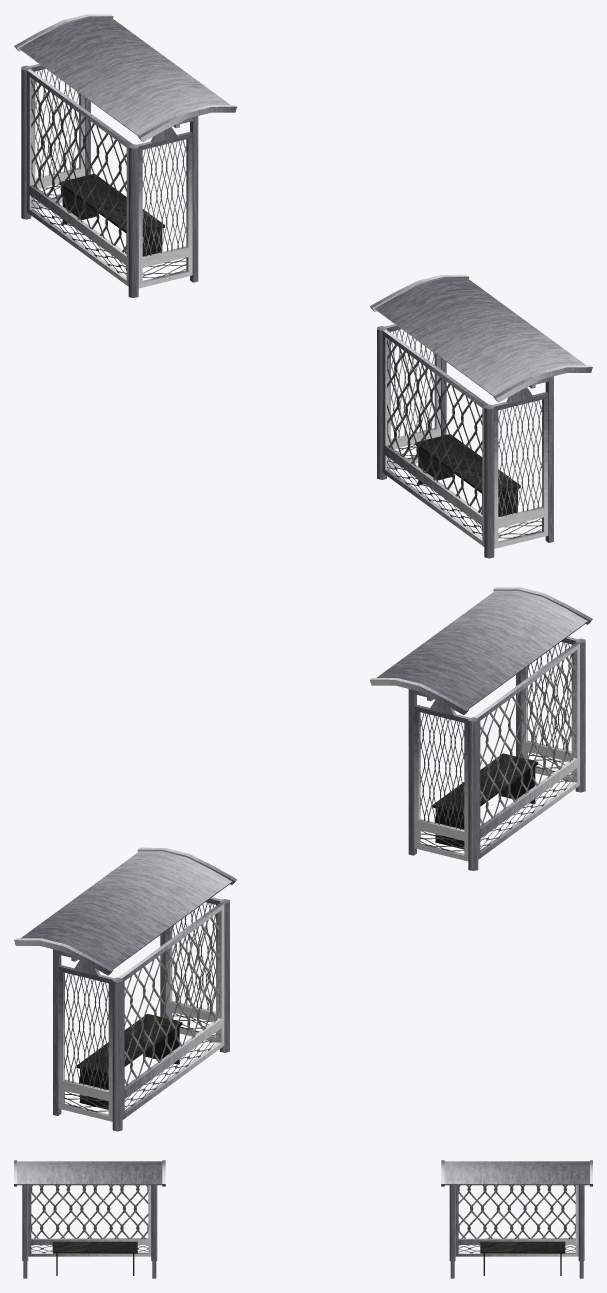
The model's file is BusStop.obj.
The picture shows the model from 3 angles, top to bottom: view 1: azimuth 30°, elevation 25°; view 2: azimuth 150°, elevation 25°; view 3: azimuth 270°, elevation 25°; orthographic projection. The views are drawn at different scales.
Visible parts, largest first — view 1: busstand002, busstand001, glass001, glass002, seat002, seat001; view 2: busstand001, busstand002, glass002, glass001, seat001, seat002; view 3: busstand002, busstand001, glass002, glass001, seat001, seat002.
Boxes of the visible parts, left/top/right/bottom form: busstand002: left=14, top=14, right=236, bottom=297; busstand001: left=370, top=274, right=592, bottom=558; glass001: left=387, top=329, right=542, bottom=539; glass002: left=31, top=69, right=187, bottom=279; seat002: left=59, top=174, right=165, bottom=270; seat001: left=415, top=434, right=520, bottom=530; busstand001: left=370, top=587, right=592, bottom=870; busstand002: left=14, top=847, right=236, bottom=1131; glass002: left=64, top=902, right=219, bottom=1112; glass001: left=419, top=642, right=575, bottom=852; seat001: left=432, top=753, right=538, bottom=848; seat002: left=76, top=1013, right=182, bottom=1109; busstand002: left=441, top=1160, right=592, bottom=1278; busstand001: left=14, top=1160, right=165, bottom=1278; glass002: left=458, top=1185, right=575, bottom=1253; glass001: left=31, top=1185, right=148, bottom=1253; seat001: left=52, top=1241, right=137, bottom=1275; seat002: left=480, top=1241, right=565, bottom=1275.
Bounding box in the file's own units: 146 × 252 × 1230.
Materials: 3 (3 with a texture image).
